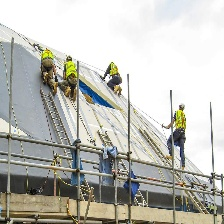person: (168, 102, 186, 169), (39, 42, 58, 102), (61, 53, 80, 101), (104, 57, 123, 93)
vest: (39, 49, 54, 70), (174, 108, 186, 132), (63, 60, 78, 78), (108, 62, 120, 82)
